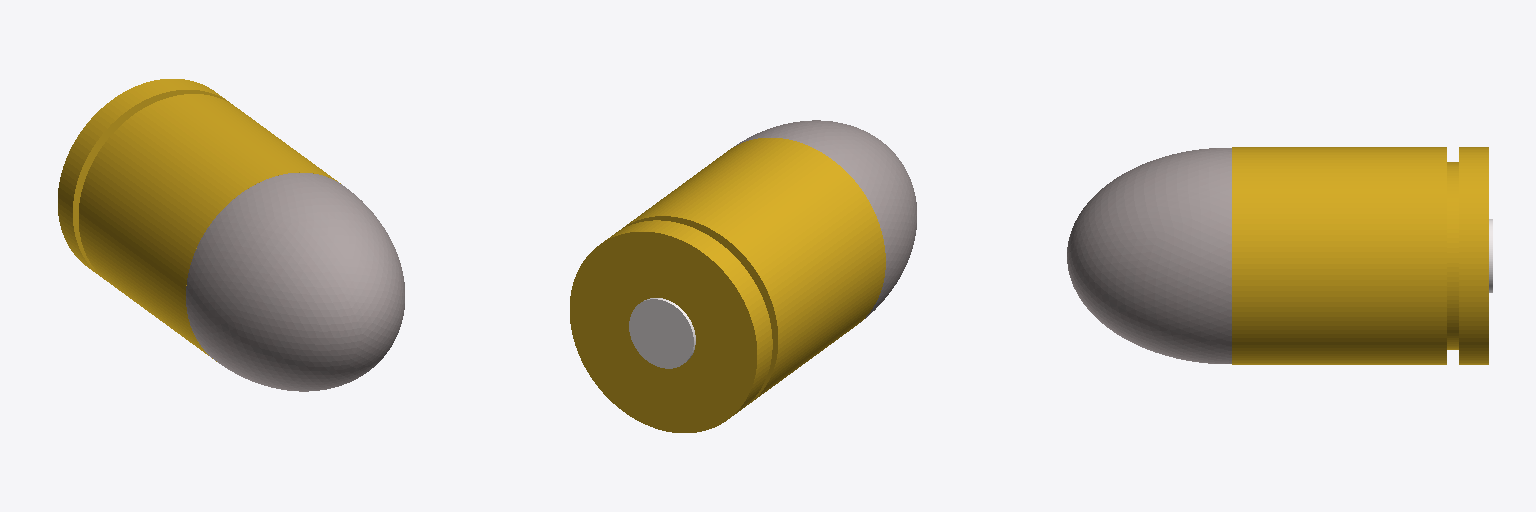
Rendered from ChonkyBullet.obj.
3 renders of one model, left to right at view 1: azimuth 30°, elevation 25°; view 2: azimuth 150°, elevation 25°; view 3: azimuth 270°, elevation 25°, orthographic.
Visible parts, largest first — view 1: Object.2, Object.1, Object.3; view 2: Object.1, Object.3, Object.2, Object.5; view 3: Object.1, Object.2, Object.3, Object.4.
Boxes of the visible parts, x1,y1,x2,y2 form: Object.2: [186, 173, 404, 391]; Object.1: [79, 94, 340, 361]; Object.3: [58, 79, 232, 279]; Object.1: [619, 138, 885, 404]; Object.3: [570, 220, 772, 432]; Object.2: [734, 120, 916, 322]; Object.5: [629, 298, 695, 368]; Object.1: [1232, 147, 1446, 364]; Object.2: [1067, 148, 1231, 363]; Object.3: [1459, 147, 1488, 364]; Object.4: [1447, 162, 1458, 349].
Size of the model in its own units: 40 by 40 by 78.54.